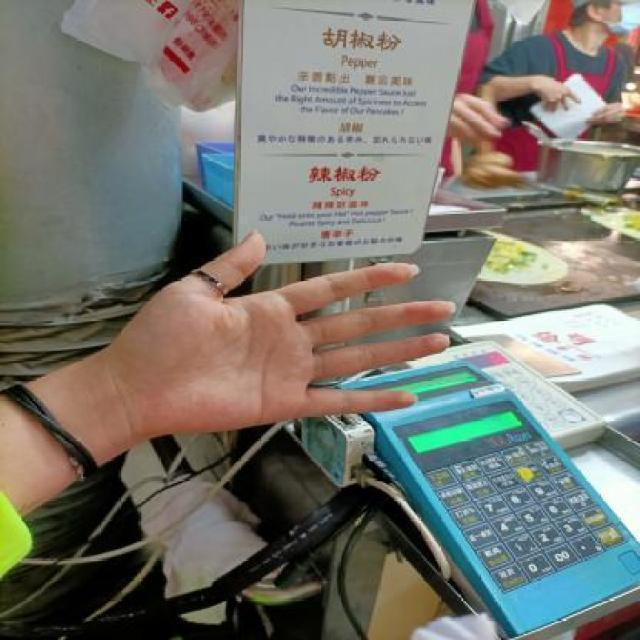hand: (94, 227, 472, 436)
